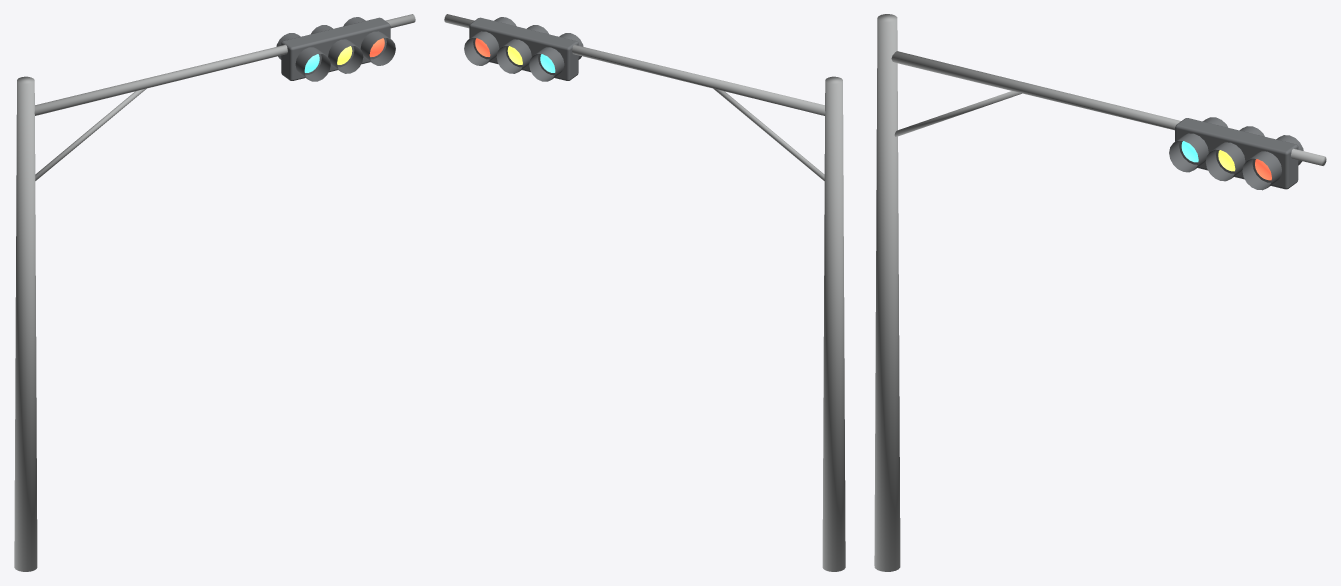
Rendered from traffic_signal.glb.
The picture shows the model from 3 angles, left to right: view 1: azimuth 30°, elevation 25°; view 2: azimuth 150°, elevation 25°; view 3: azimuth 330°, elevation 25°; orthographic projection. The views are drawn at different scales.
Visible parts, largest first — view 1: body; view 2: body; view 3: body.
Boxes of the visible parts, <box> form: body: <box>14,14,415,571</box>; body: <box>444,14,845,571</box>; body: <box>874,14,1326,571</box>.
Bounding box in the file's own units: 5.13 × 6 × 0.64.
